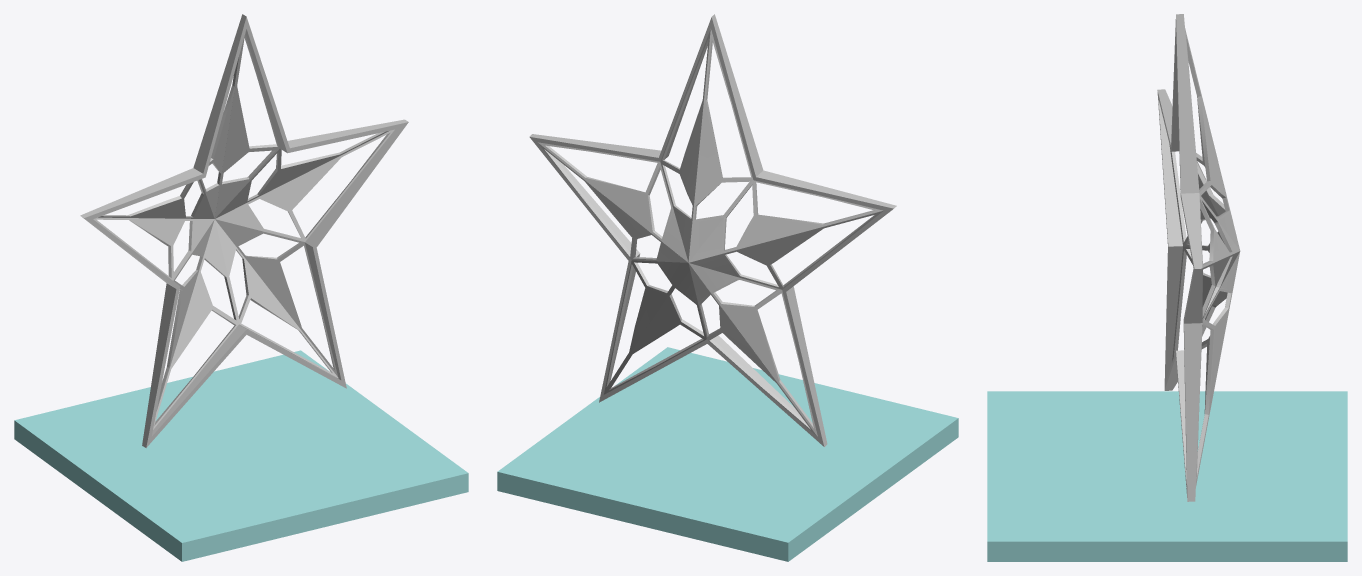
Rendered from estrella.DAE.
3 renders of one model, left to right at view 1: azimuth 30°, elevation 25°; view 2: azimuth 150°, elevation 25°; view 3: azimuth 270°, elevation 25°, orthographic. The views are drawn at different scales.
Visible parts, largest first — view 1: Box001, Line53, Line51; view 2: Box001, Line53, Line51; view 3: Box001, Line51, Line53.
Boxes of the visible parts, x1,y1,x2,y2 form: Box001: (14,350,468,561); Line53: (93,33,394,429); Line51: (80,14,408,447); Box001: (497,347,958,561); Line53: (538,29,883,436); Line51: (529,14,896,446); Box001: (987,391,1347,561); Line51: (1157,14,1202,501); Line53: (1169,28,1240,485).
Size of the model in its own units: 157 by 133 by 194.
